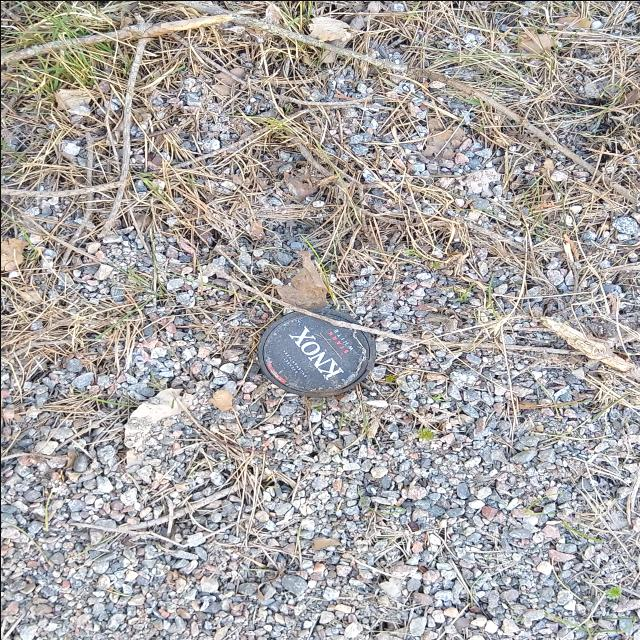Unlabeled litter: (257, 307, 375, 397)
